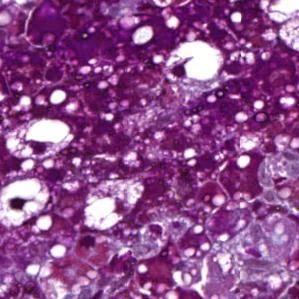ballooning: (81, 177, 146, 233), (3, 115, 76, 163), (161, 38, 226, 83), (3, 175, 53, 232)
